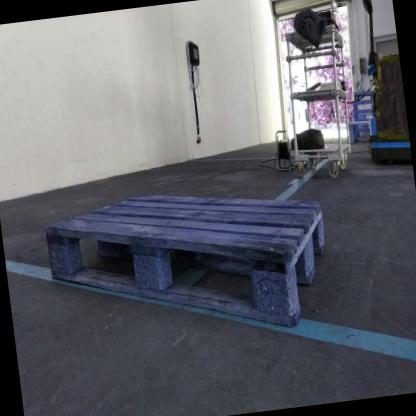BoxFace: (41, 192, 329, 331)
